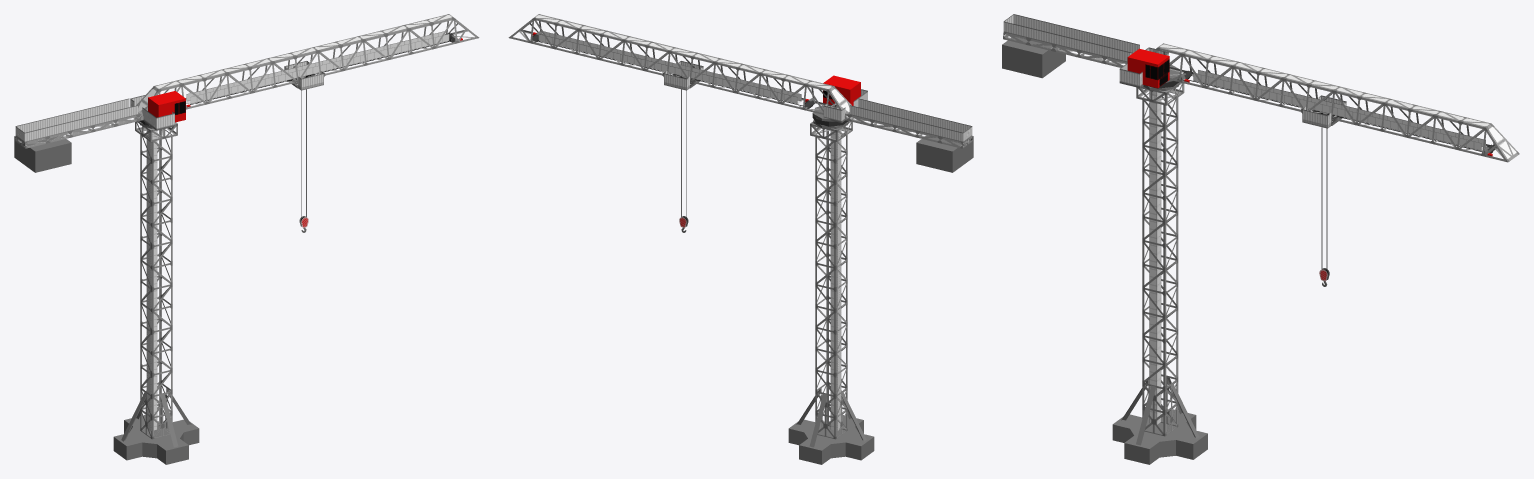
File: Crane A.fbx
The picture shows the model from 3 angles, left to right: view 1: azimuth 30°, elevation 25°; view 2: azimuth 150°, elevation 25°; view 3: azimuth 330°, elevation 25°; orthographic projection. The views are drawn at different scales.
Parts seen in each view (by area): view 1: Arrow Truss, Mast Truss, Arrow Ladder, Mast Ladder, Tail Fence, Tail Mass, Box003, Mast Truss Base, Cabin, Tail Truss, Box004, Box001 (+1 smaller); view 2: Arrow Truss, Mast Truss, Arrow Ladder, Mast Ladder, Tail Fence, Tail Mass, Box003, Mast Truss Base, Box004, Tail Truss, Box001, Cabin; view 3: Arrow Truss, Mast Truss, Mast Ladder, Arrow Ladder, Tail Fence, Tail Mass, Box003, Cabin, Mast Truss Base, Box004, Tail Truss, Box001 (+2 smaller).
Part boxes in pixels (box(x1,y1,x2,y2)): Arrow Truss: box(135, 14, 479, 120); Mast Truss: box(140, 129, 172, 396); Arrow Ladder: box(186, 31, 449, 103); Mast Ladder: box(146, 129, 157, 430); Tail Fence: box(15, 98, 138, 142); Tail Mass: box(14, 136, 71, 172); Box003: box(113, 419, 199, 460); Mast Truss Base: box(140, 383, 172, 439); Cabin: box(148, 91, 185, 122); Tail Truss: box(15, 110, 142, 148); Box004: box(124, 415, 188, 464); Box001: box(125, 421, 183, 458); Arrow Truss: box(508, 14, 852, 119); Mast Truss: box(815, 129, 847, 396); Arrow Ladder: box(538, 31, 801, 103); Mast Ladder: box(830, 129, 841, 430); Tail Fence: box(849, 98, 972, 142); Tail Mass: box(916, 135, 973, 172); Box003: box(788, 419, 874, 460); Mast Truss Base: box(815, 383, 847, 439); Box004: box(799, 415, 863, 464); Tail Truss: box(830, 103, 972, 148); Box001: box(800, 421, 858, 458); Cabin: box(823, 75, 860, 105); Arrow Truss: box(1152, 43, 1519, 162); Mast Truss: box(1142, 92, 1178, 388); Mast Ladder: box(1149, 90, 1161, 424); Arrow Ladder: box(1193, 70, 1485, 150); Tail Fence: box(1003, 14, 1139, 62); Tail Mass: box(1002, 37, 1065, 78); Box003: box(1112, 414, 1207, 459); Cabin: box(1127, 48, 1169, 88); Mast Truss Base: box(1142, 375, 1178, 436); Box004: box(1124, 409, 1196, 464); Tail Truss: box(1003, 32, 1132, 67); Box001: box(1130, 415, 1190, 457).
Size of the model in its own units: 50 by 37.75 by 8.
Materials: 28 (22 with a texture image).
